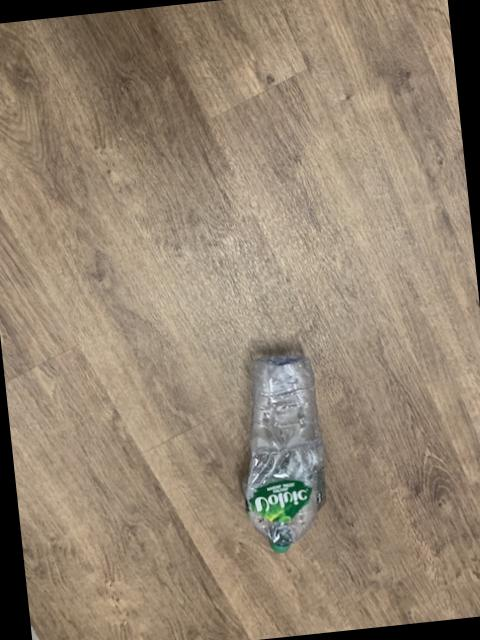plastic: (244, 357, 324, 554)
